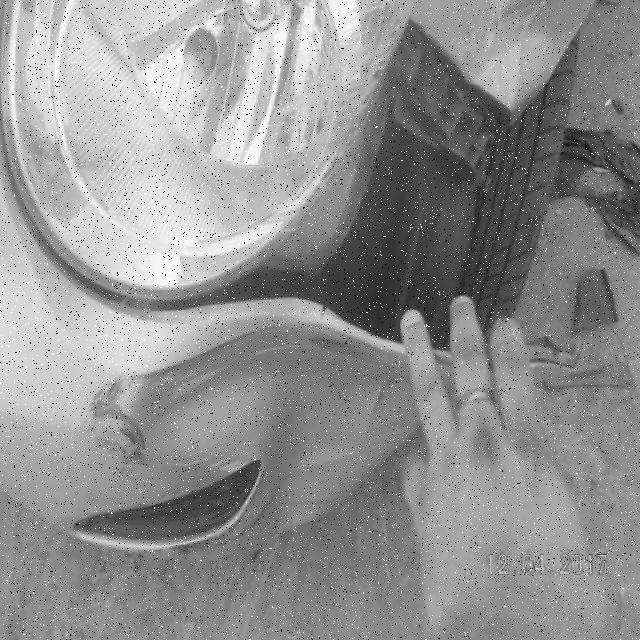car damage: (43, 21, 540, 383), (267, 3, 412, 247), (447, 5, 578, 108), (159, 470, 291, 562), (88, 375, 145, 470), (156, 346, 236, 397), (312, 330, 395, 377), (244, 337, 322, 368), (174, 449, 254, 476)
